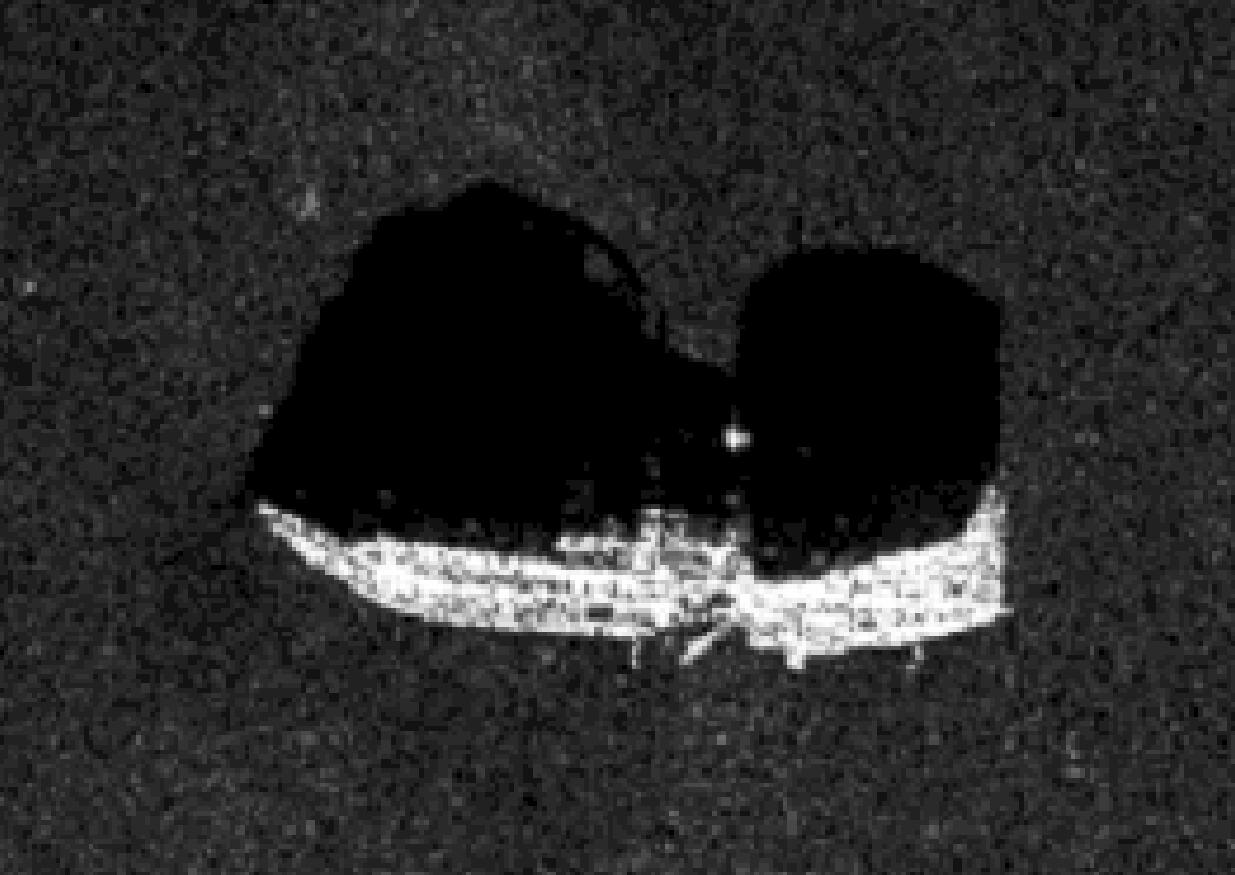ship: (250, 488, 1014, 666)
